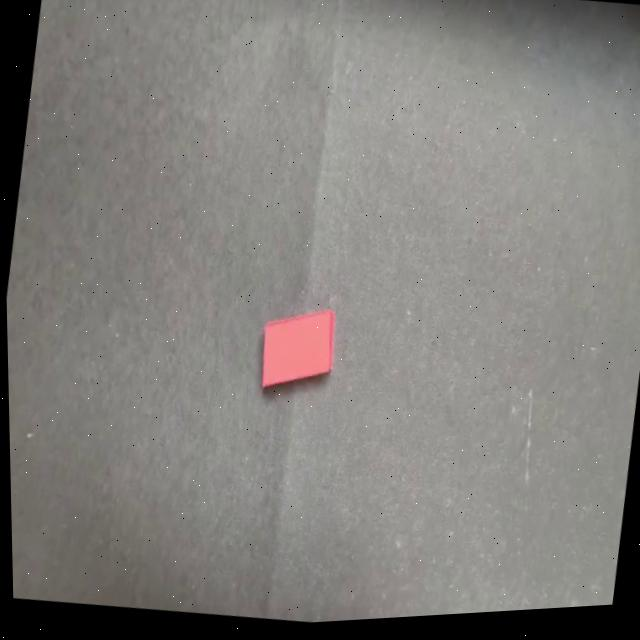red block: (255, 299, 340, 398)
